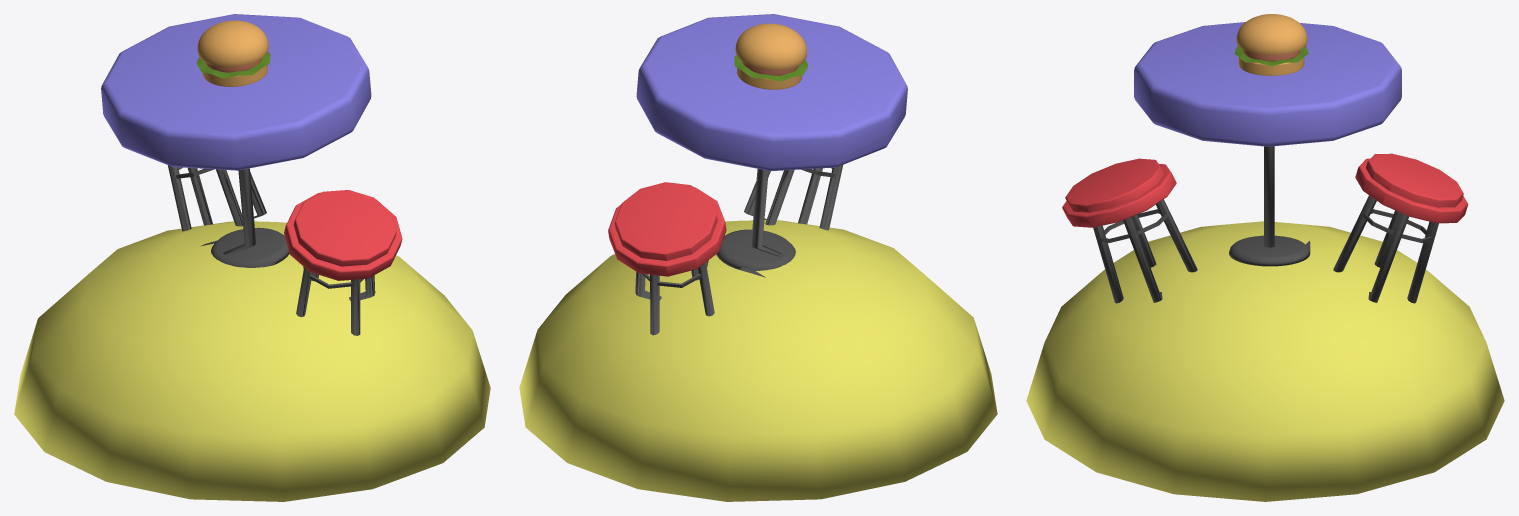
Rendered from IslaRestaurante.fbx.
3 views of the same model, side by side, from view 1: azimuth 30°, elevation 25°; view 2: azimuth 150°, elevation 25°; view 3: azimuth 270°, elevation 25° (orthographic).
Parts seen in each view (by area): view 1: Bay of Flavor; view 2: Bay of Flavor; view 3: Bay of Flavor.
Part boxes in pixels (x1,y1,x2,y2): Bay of Flavor: [14, 14, 490, 501]; Bay of Flavor: [519, 14, 997, 501]; Bay of Flavor: [1026, 14, 1504, 501].
Size of the model in its own units: 257 by 222 by 257.
